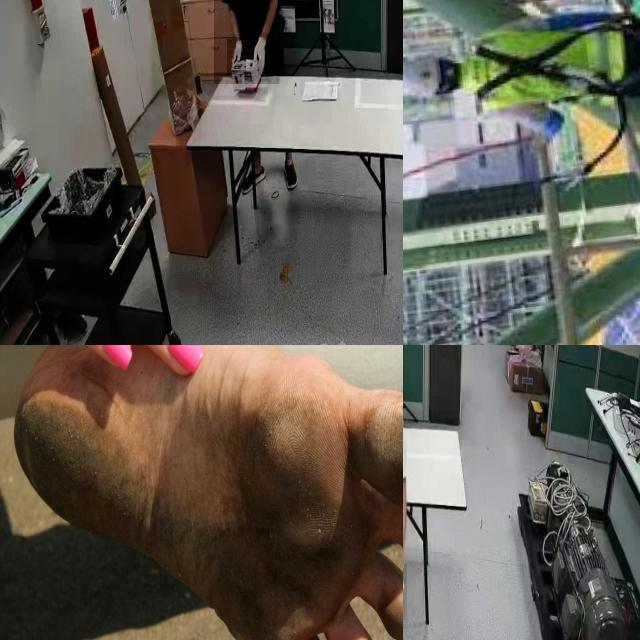Barefoots: (14, 345, 403, 640)
Harness: (457, 10, 640, 111)
hand_glove: (251, 32, 269, 82), (227, 37, 247, 76)
person: (214, 0, 280, 85)
shoes: (240, 157, 268, 195), (282, 154, 300, 192)
